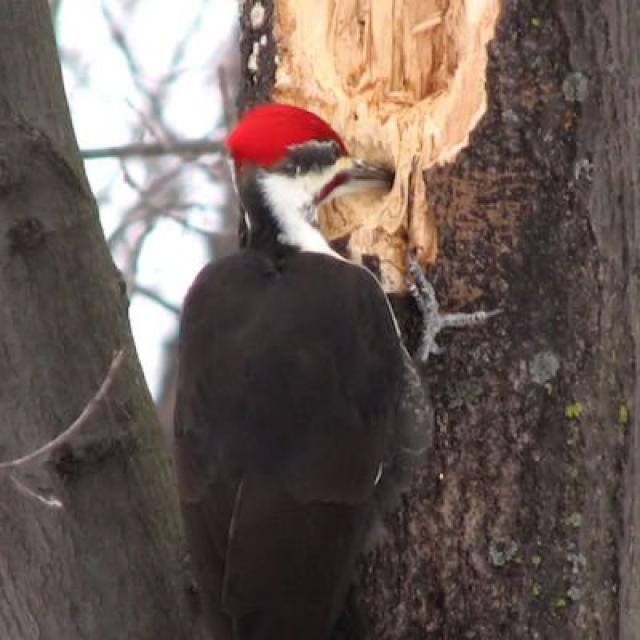Woodpecker: (100, 98, 516, 640)
